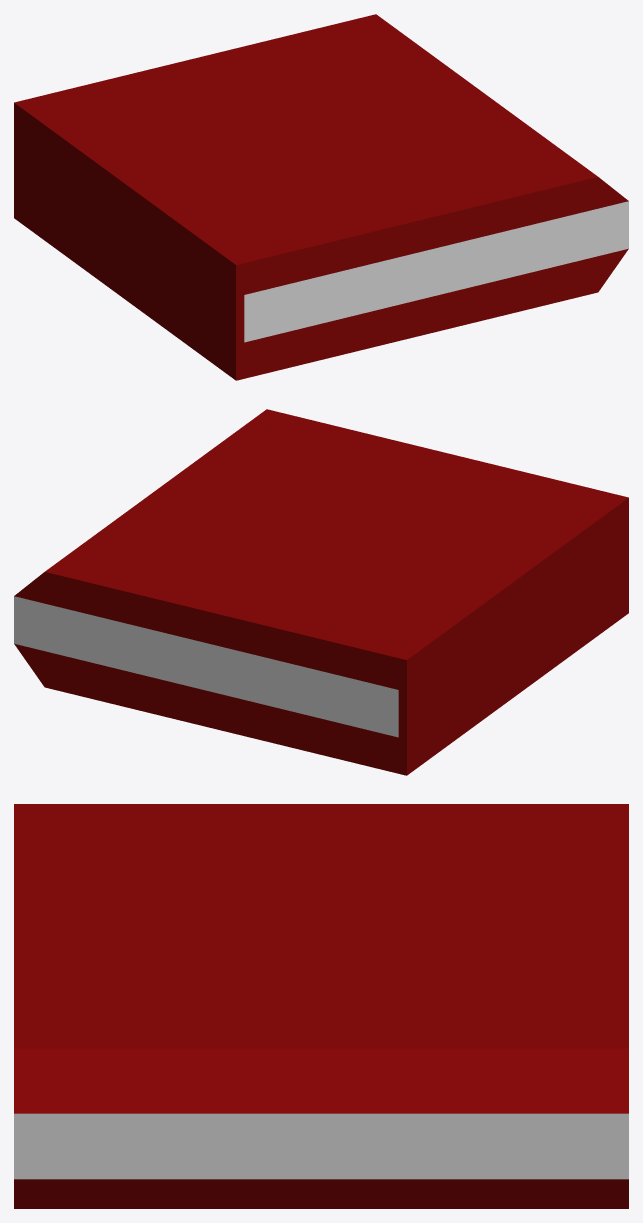
File: book_closed.glb
3 views of the same model, one above another, from view 1: azimuth 30°, elevation 25°; view 2: azimuth 150°, elevation 25°; view 3: azimuth 270°, elevation 25° (orthographic). The views are drawn at different scales.
Parts seen in each view (by area): view 1: Cube; view 2: Cube; view 3: Cube.
Part boxes in pixels (bbox=[...]): Cube: bbox=[14, 14, 628, 380]; Cube: bbox=[14, 409, 628, 775]; Cube: bbox=[14, 804, 628, 1208].
Bounding box in the file's own units: 0.051 × 0.0144 × 0.05.
